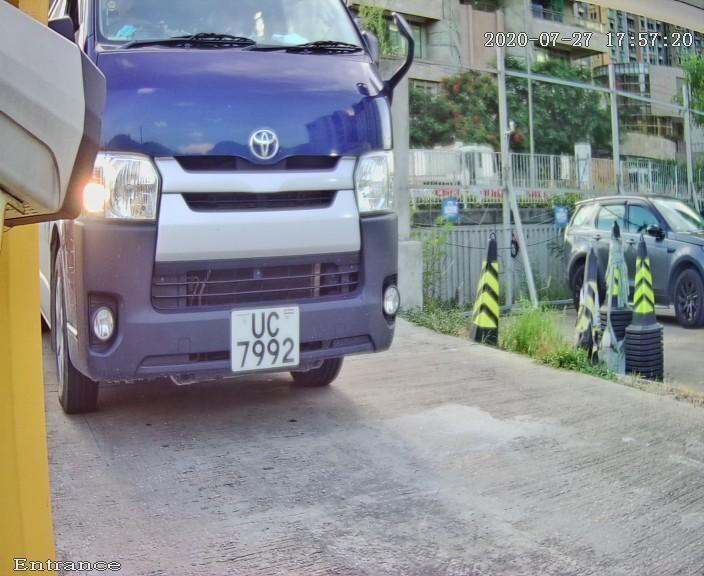privatecar: (38, 3, 441, 430)
